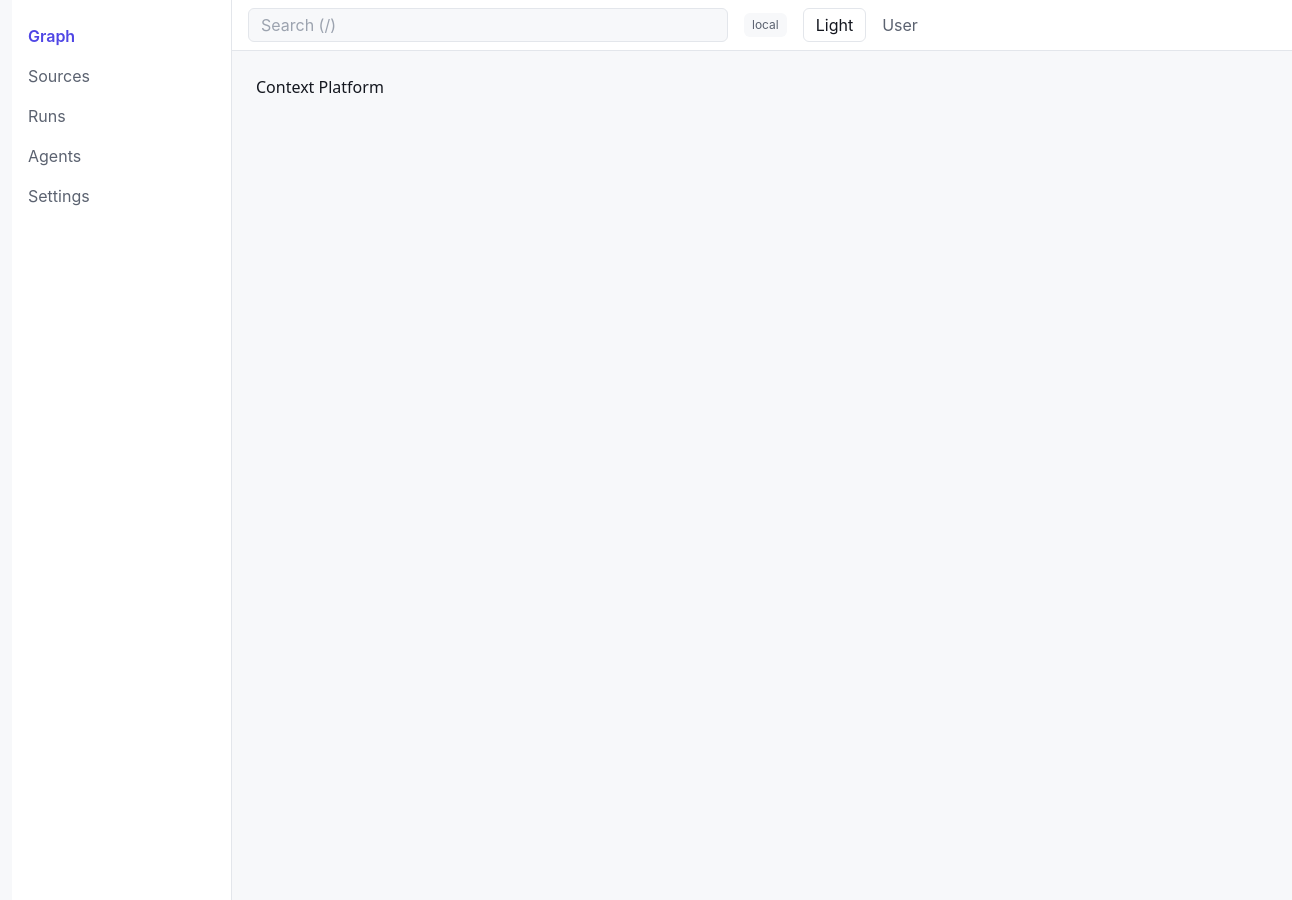
Test case: App navigation › navigates to the Sources screen and then to the run view after Run
The image size is (1292, 900).
Click the button "Sources".
click(122, 76)  # box [12,56,231,96]
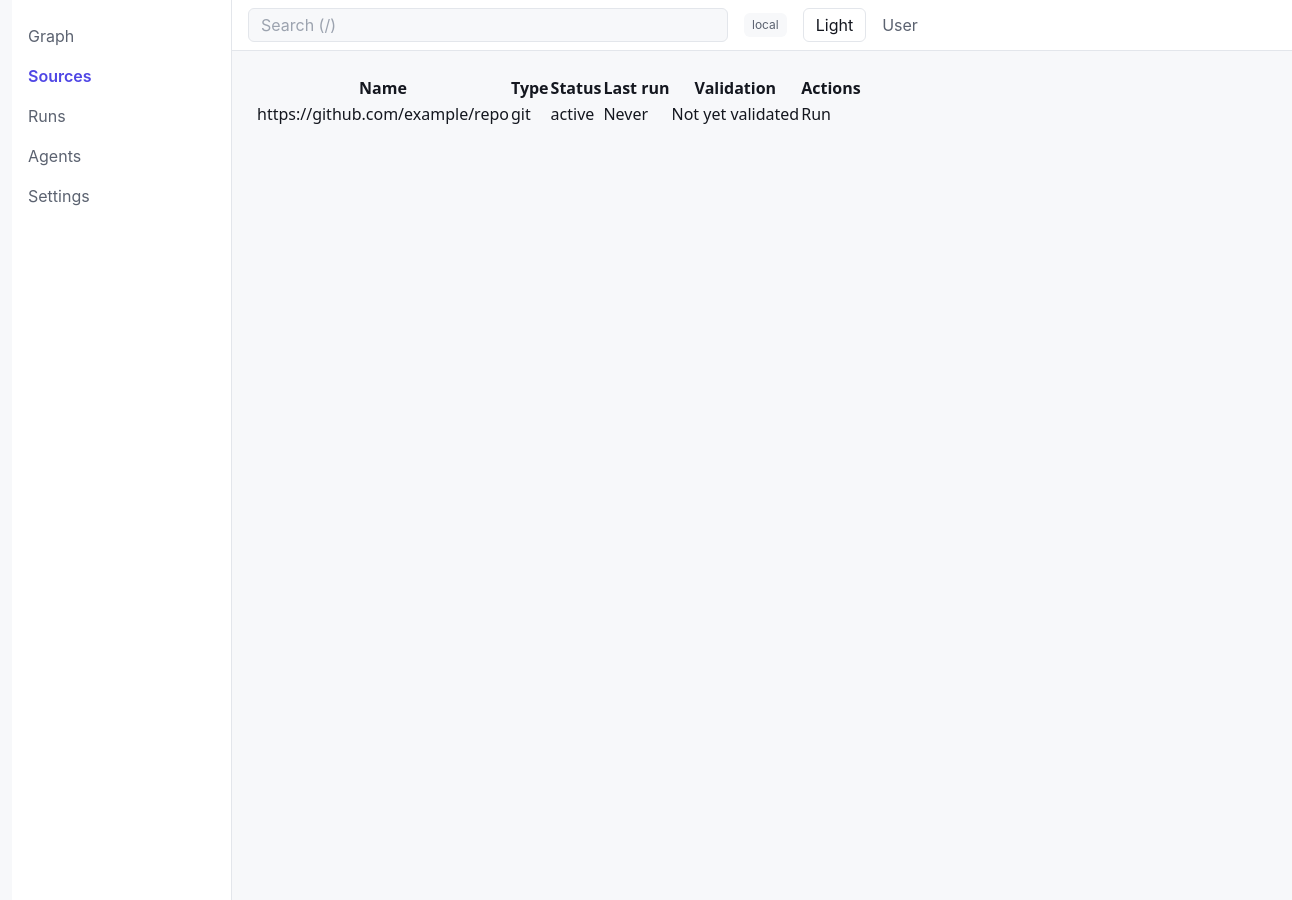
expect the table with test id "sources-table" is shown: met, box [256,75,862,127]
Click the button "Run".
click(816, 114)  # box [801,102,831,126]
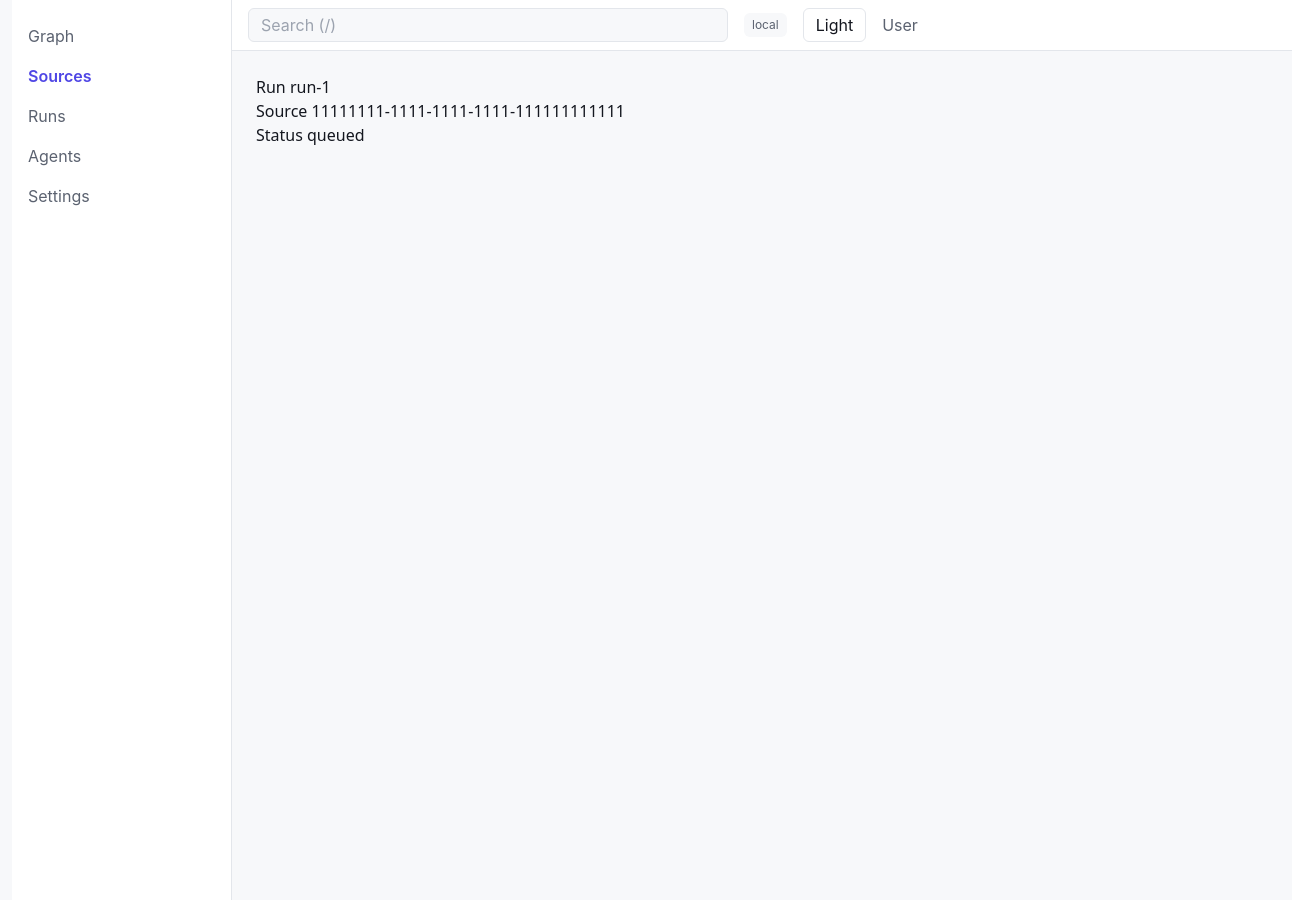
expect the element with test id "run-view" is shown: met, box [256,76,625,146]
expect the text with test id "run-id" reads "run-1": met, box [290,76,331,98]
